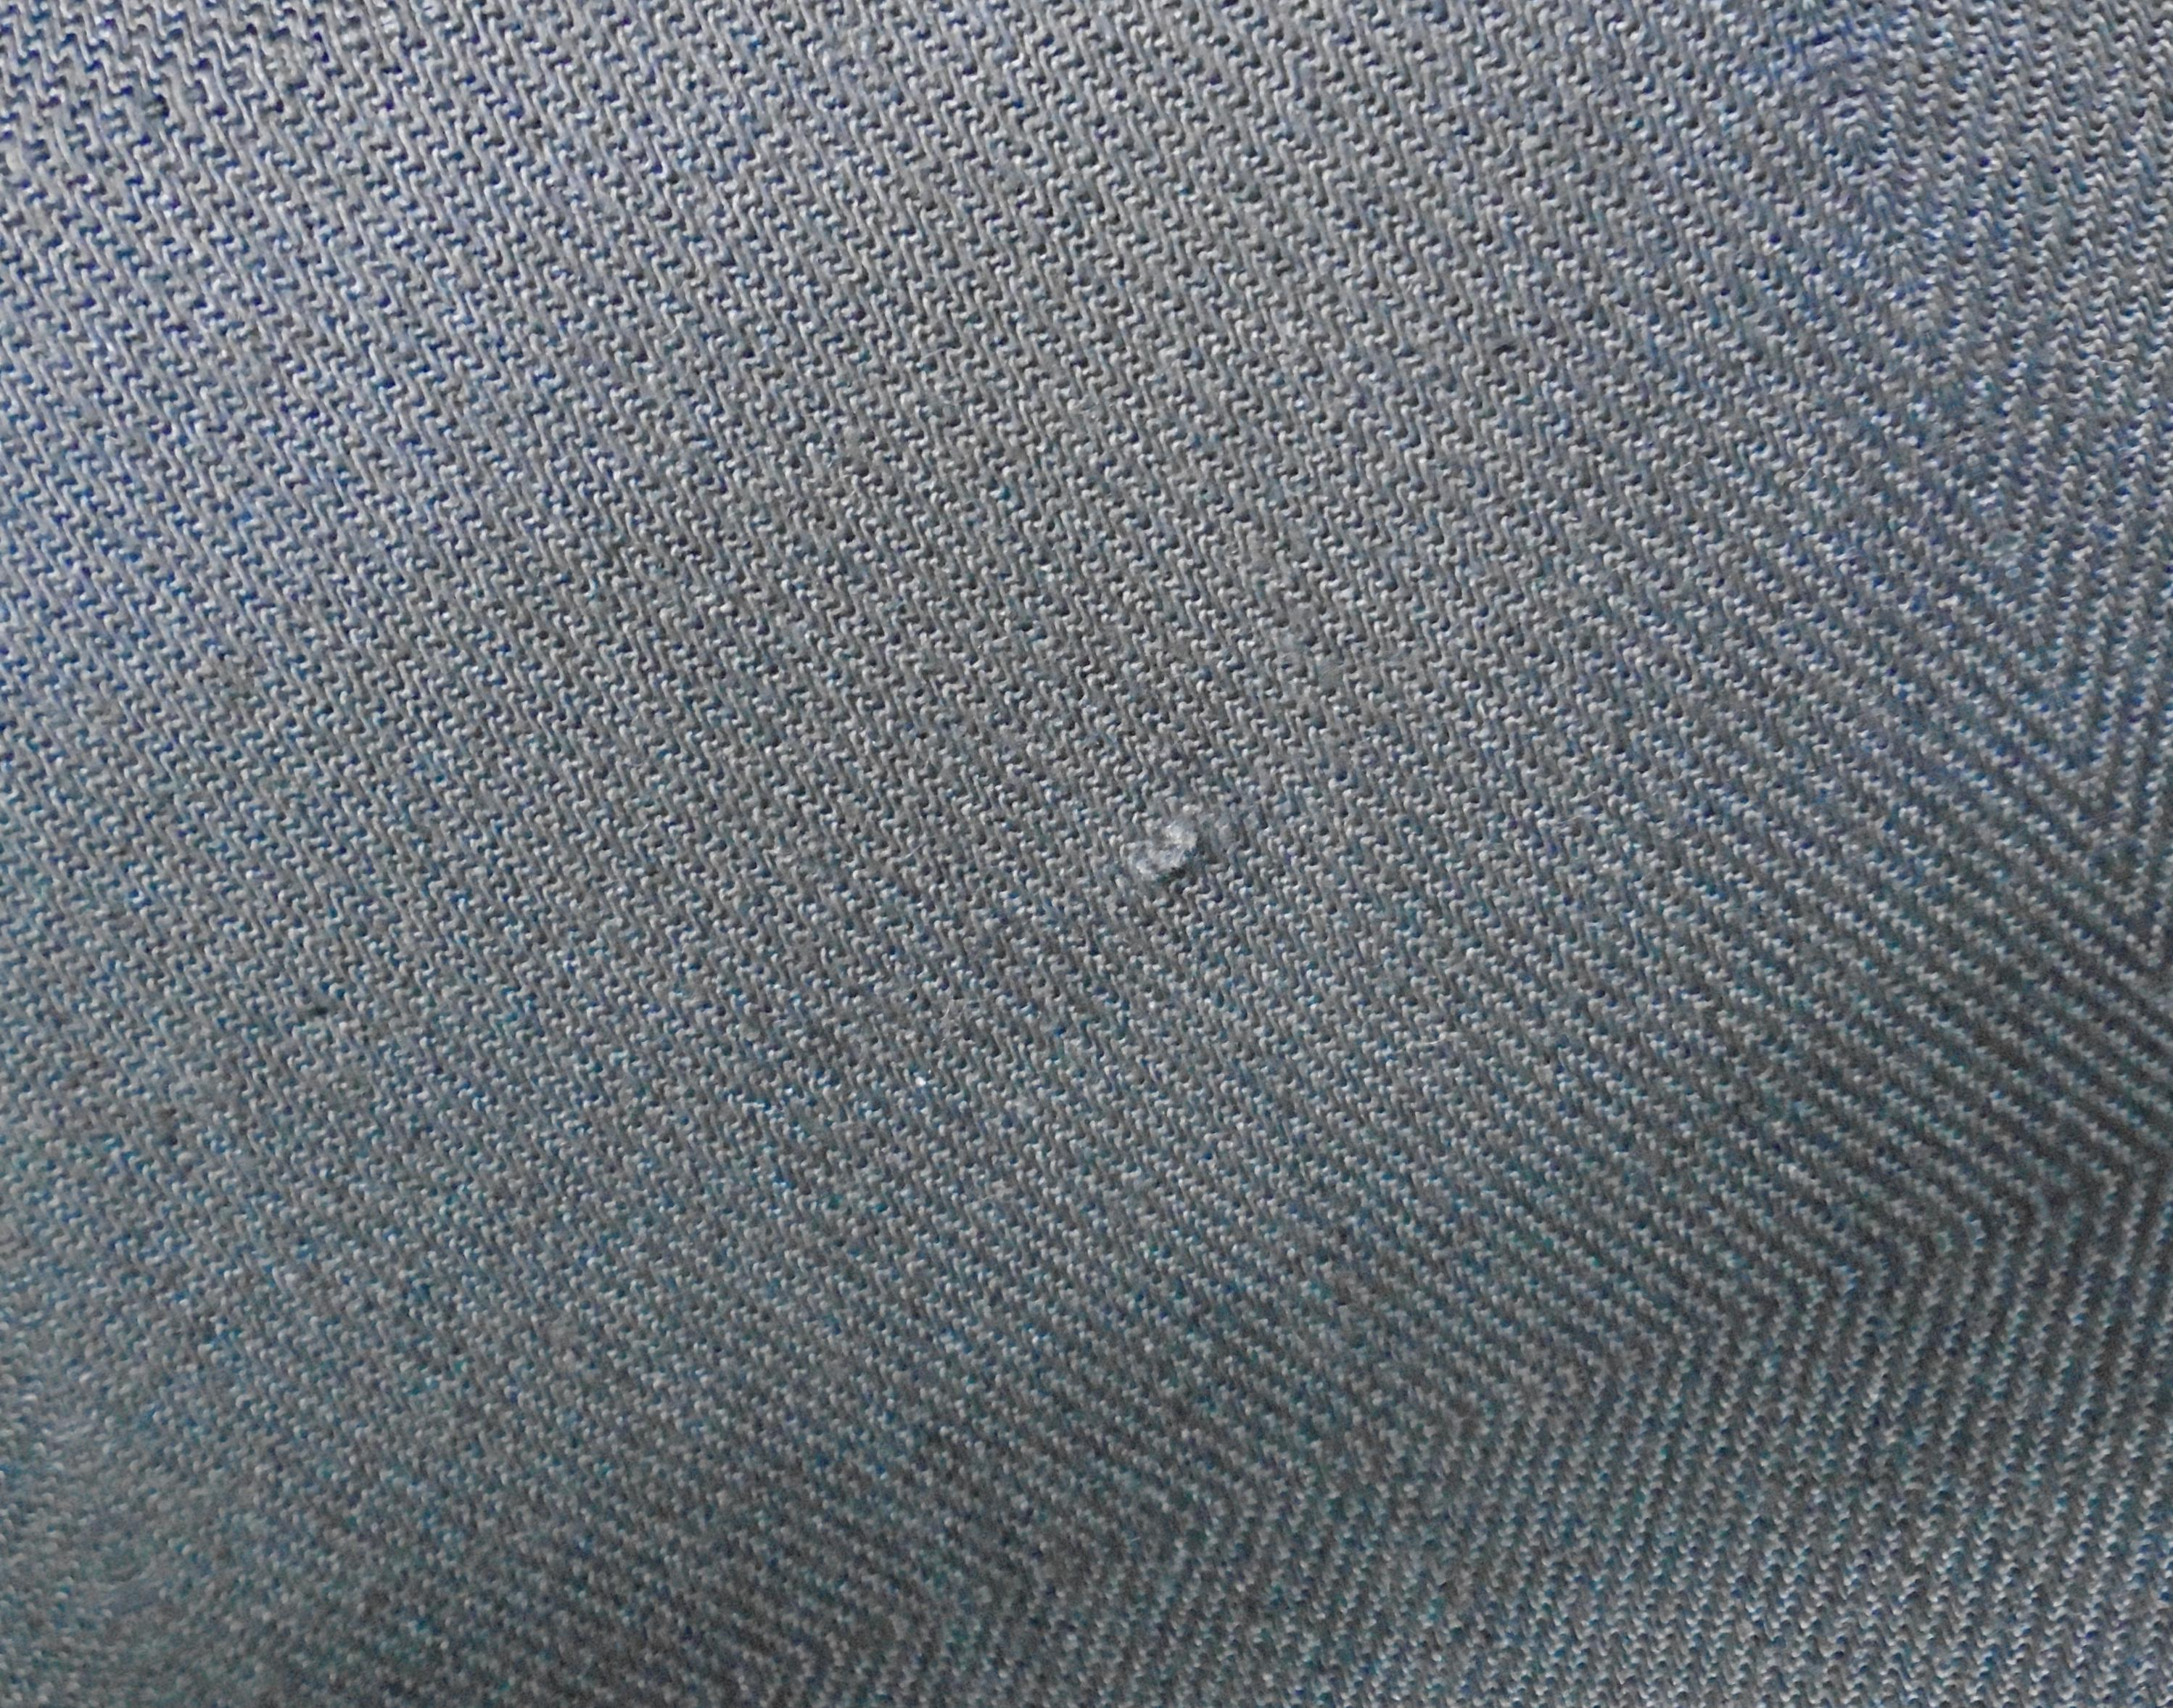knot: (1108, 798, 1251, 935)
